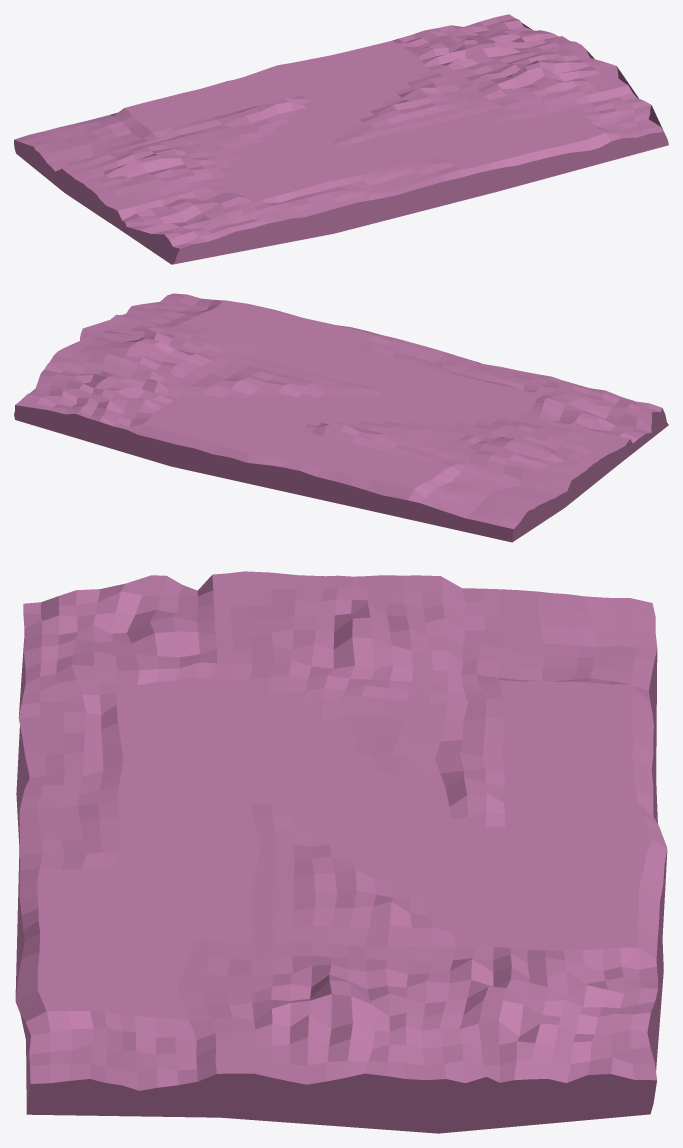
Rendered from zemın4.fbx.
3 renders of one model, top to bottom at view 1: azimuth 30°, elevation 25°; view 2: azimuth 150°, elevation 25°; view 3: azimuth 270°, elevation 25°, orthographic. The views are drawn at different scales.
Visible parts, largest first — view 1: Plane.018; view 2: Plane.018; view 3: Plane.018.
Boxes of the visible parts, left/top/right/bottom form: Plane.018: left=14, top=14, right=668, bottom=264; Plane.018: left=14, top=293, right=668, bottom=542; Plane.018: left=15, top=571, right=667, bottom=1133.
Size of the model in its own units: 5411 by 416 by 2888.
